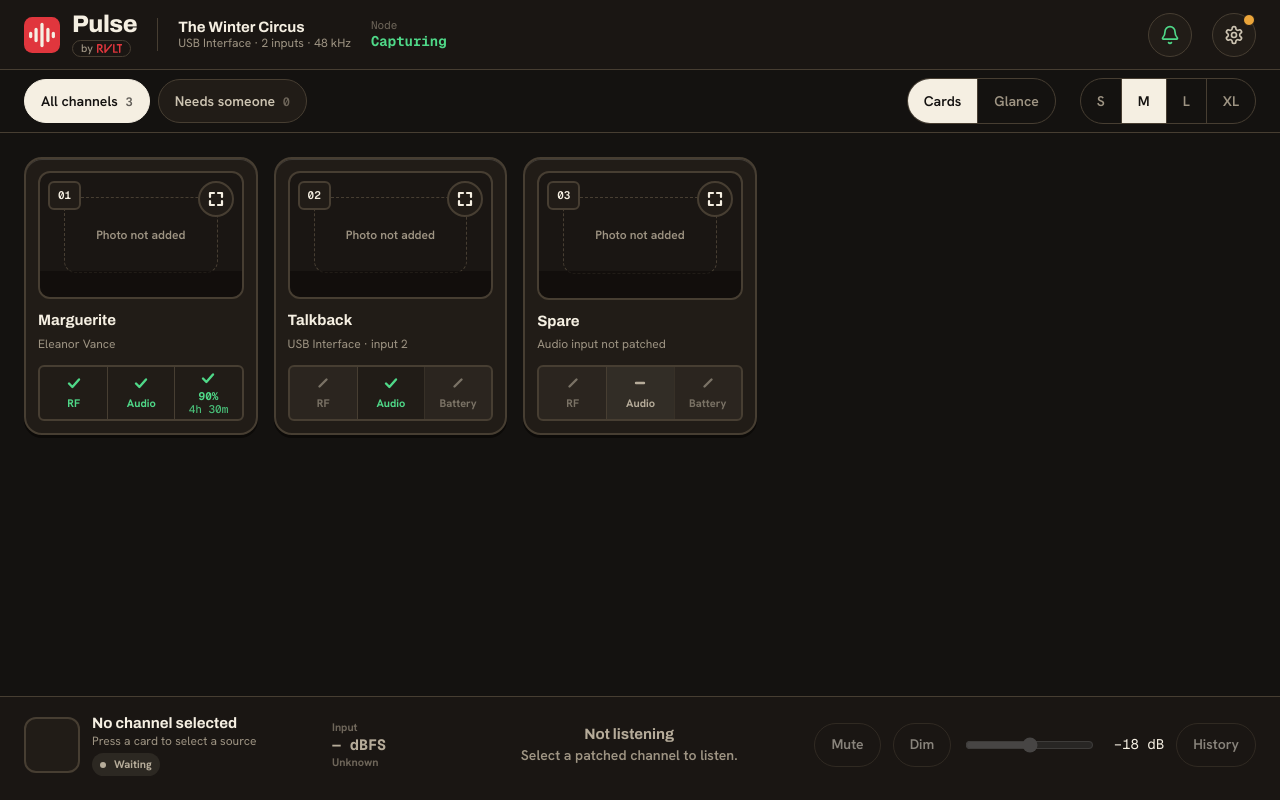
Test: Live channel grid › starts unmuted and selecting a channel keeps the output state
This screenshot has width=1280, height=800.
Expected: the button "Mute" is shown, left=814, top=723, right=881, bottom=767
Step 1. Click the button named "Select Talkback, channel 2" → (390, 296), box left=276, top=159, right=505, bottom=433
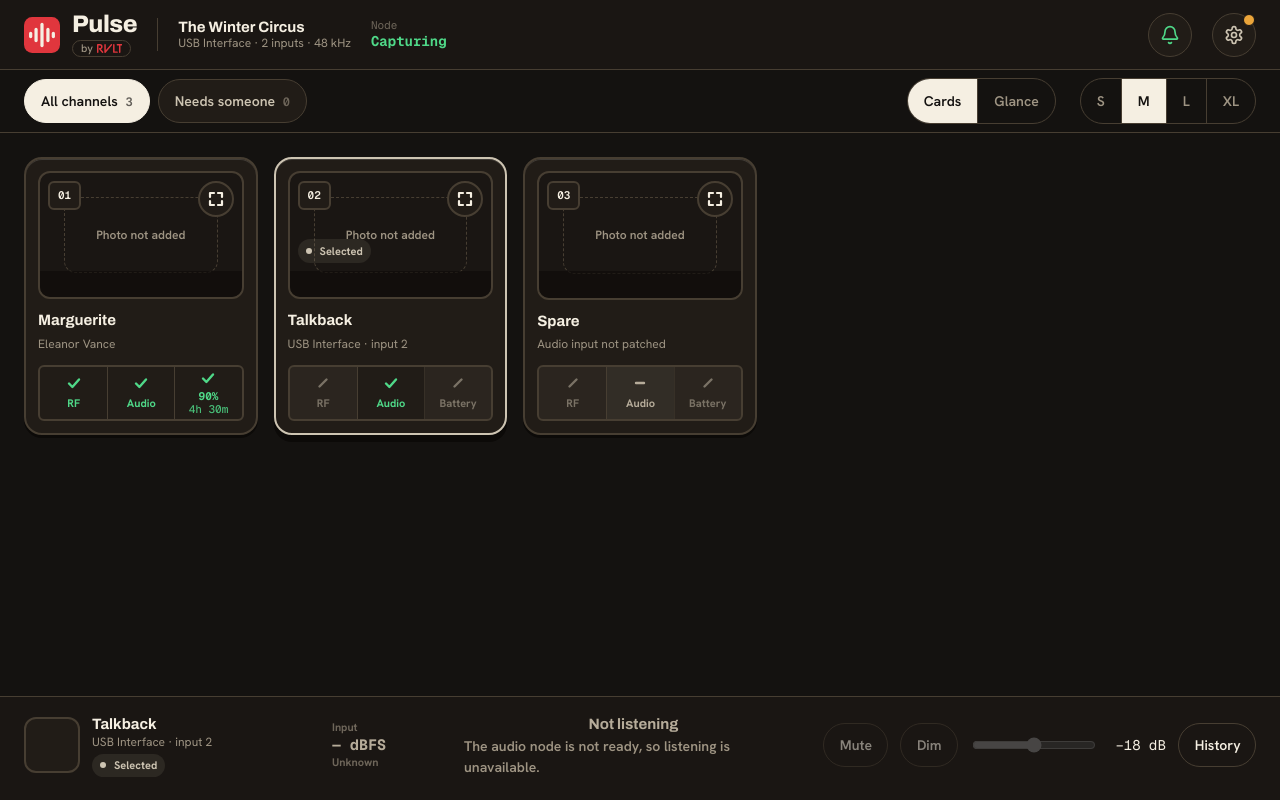
Now the text "Talkback" is shown, box left=92, top=714, right=157, bottom=734
